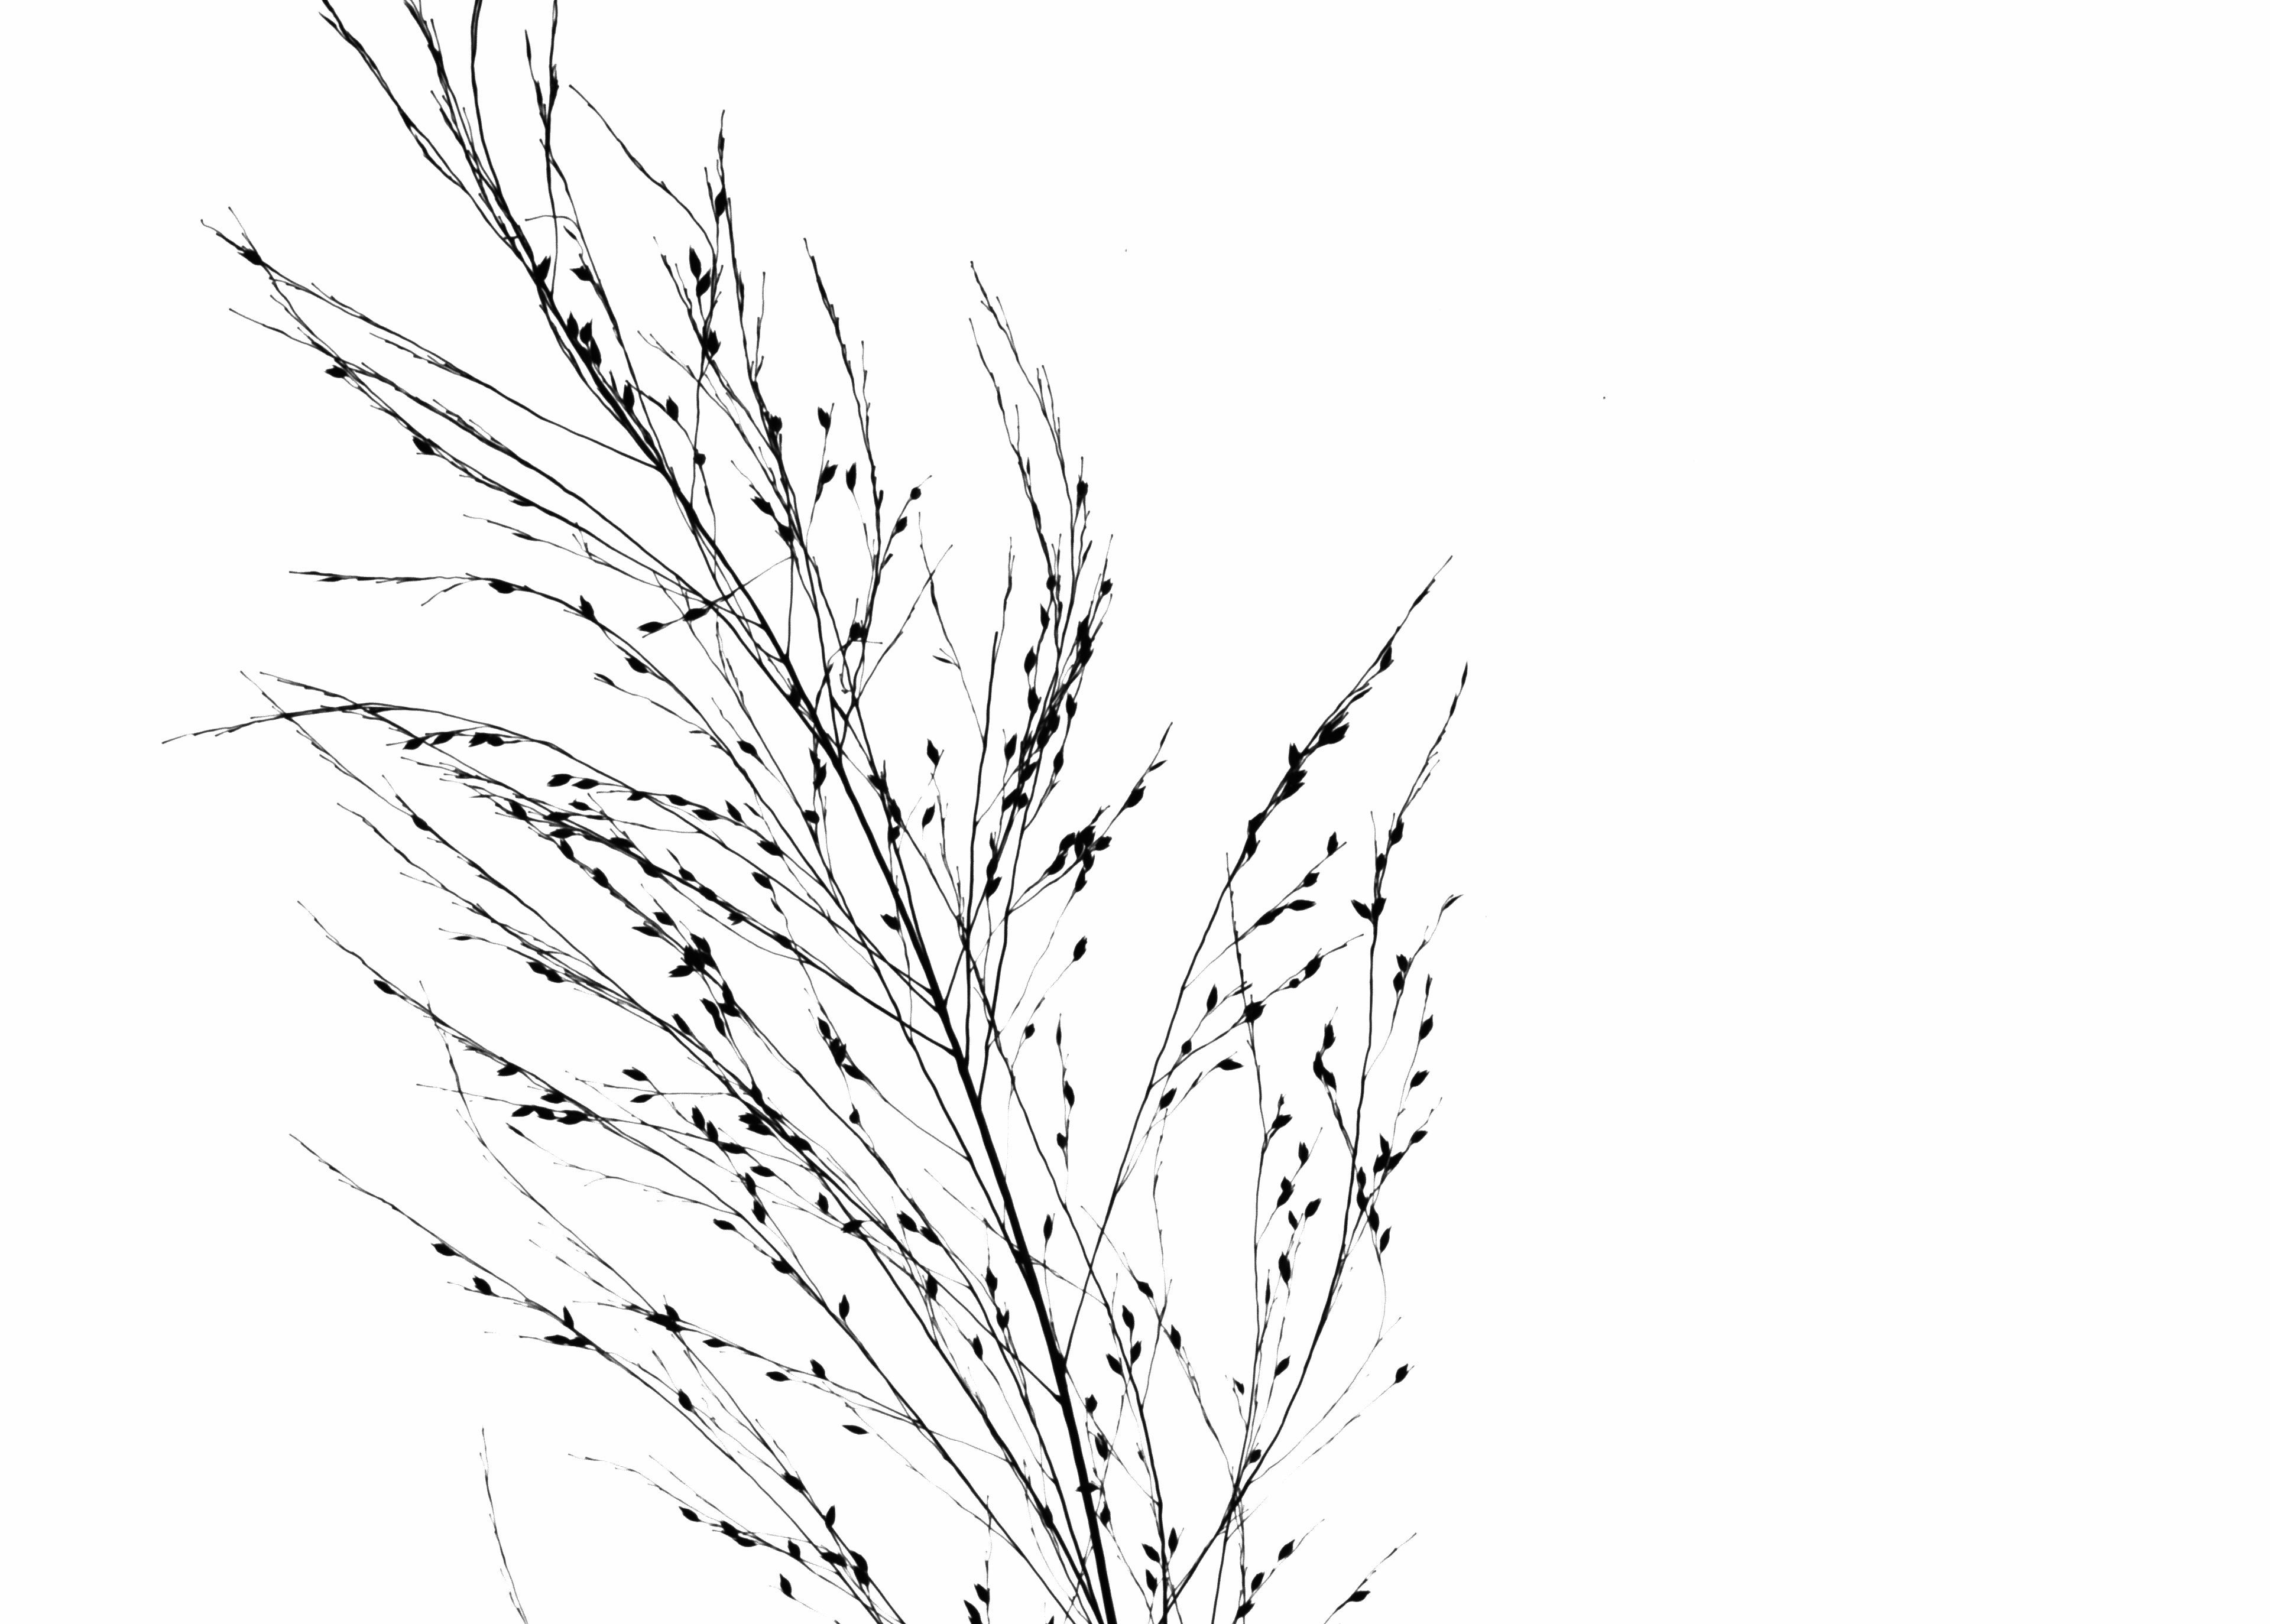seed: (698, 998, 728, 1037), (1250, 902, 1287, 930), (485, 573, 520, 601), (505, 794, 535, 824), (633, 856, 666, 882), (1280, 768, 1308, 798), (408, 432, 438, 460), (1322, 722, 1354, 749), (1203, 979, 1224, 1018), (619, 1062, 654, 1084), (535, 251, 556, 288), (673, 1385, 698, 1417), (1059, 1076, 1081, 1109), (1090, 1427, 1113, 1461), (236, 246, 269, 269), (775, 1568, 798, 1601), (1389, 814, 1410, 849), (1238, 995, 1266, 1021), (624, 654, 652, 680), (788, 1130, 816, 1156), (431, 1237, 457, 1265), (1382, 1149, 1407, 1179), (779, 1469, 809, 1494), (568, 262, 600, 285), (753, 835, 786, 856), (1243, 808, 1270, 835), (689, 932, 716, 958), (1125, 784, 1150, 812), (747, 494, 775, 518), (1368, 896, 1391, 926), (1280, 782, 1310, 805), (920, 1223, 942, 1253), (556, 835, 578, 865), (767, 1255, 797, 1278), (765, 1366, 795, 1388), (1164, 1322, 1183, 1357), (1305, 951, 1326, 982), (921, 736, 942, 768), (369, 977, 401, 998), (1275, 1536, 1299, 1562), (1102, 1350, 1127, 1376), (983, 1262, 1000, 1299), (717, 997, 744, 1021), (812, 759, 830, 796), (865, 772, 891, 796), (686, 241, 703, 278), (960, 1598, 986, 1622), (886, 794, 906, 828), (1277, 1183, 1299, 1211), (1345, 1585, 1373, 1608), (575, 594, 598, 622), (1275, 1253, 1296, 1283), (1118, 1302, 1139, 1332), (607, 831, 637, 852), (920, 800, 941, 830), (1074, 612, 1092, 647), (1321, 1019, 1340, 1051), (1127, 1338, 1146, 1369), (921, 1269, 941, 1301), (983, 849, 1002, 881), (1002, 782, 1022, 814), (735, 1107, 767, 1127), (702, 1332, 733, 1352), (1132, 1278, 1157, 1302), (893, 1209, 918, 1234), (1347, 896, 1370, 923), (1234, 1596, 1257, 1622), (840, 1062, 867, 1084), (466, 726, 492, 749), (670, 1011, 693, 1037), (469, 1272, 496, 1295), (851, 1562, 874, 1589), (849, 1545, 872, 1571), (1069, 933, 1090, 961), (545, 768, 573, 789), (1046, 849, 1067, 877), (684, 603, 712, 624), (974, 1577, 995, 1605), (1285, 895, 1319, 912), (1377, 1225, 1394, 1258), (696, 267, 714, 301), (1050, 1014, 1069, 1044), (663, 392, 682, 422), (431, 728, 461, 747), (746, 1121, 775, 1141), (749, 1162, 779, 1181), (1377, 1130, 1391, 1171), (1139, 1541, 1164, 1564), (751, 868, 775, 891), (744, 800, 767, 824), (879, 910, 904, 933), (735, 736, 760, 759), (410, 810, 434, 833), (1408, 1127, 1435, 1148), (1324, 828, 1342, 859), (1046, 701, 1064, 733), (1213, 1056, 1245, 1074), (1157, 1084, 1178, 1111), (1268, 1111, 1294, 1132), (1271, 1353, 1292, 1380), (545, 824, 580, 840), (591, 670, 617, 691), (1020, 759, 1041, 786), (1080, 636, 1095, 671), (633, 619, 668, 634), (589, 339, 607, 371), (559, 1111, 591, 1128), (703, 1116, 721, 1148), (719, 1139, 751, 1156), (719, 1515, 740, 1541), (1419, 1014, 1438, 1042), (840, 1420, 869, 1439), (816, 1548, 844, 1568), (1243, 828, 1259, 861), (1036, 721, 1051, 754), (540, 808, 573, 824), (1023, 642, 1039, 675), (712, 186, 728, 220), (1379, 643, 1396, 673), (971, 1332, 988, 1362), (619, 381, 637, 411), (689, 1102, 707, 1132), (751, 1197, 768, 1227), (742, 1169, 760, 1199), (1247, 1004, 1268, 1028), (591, 863, 612, 888), (1057, 828, 1078, 852), (564, 308, 578, 344), (784, 1538, 805, 1562), (679, 1504, 703, 1526), (691, 803, 717, 823), (985, 874, 1004, 900), (1016, 731, 1036, 758), (325, 362, 352, 381), (809, 1355, 828, 1381), (631, 924, 663, 940), (1051, 743, 1067, 775), (578, 316, 594, 348), (1322, 1065, 1340, 1093), (1312, 1049, 1326, 1084), (1069, 1482, 1104, 1496), (833, 1039, 848, 1074), (814, 1014, 832, 1042), (626, 789, 654, 807), (1062, 691, 1080, 719), (557, 1302, 575, 1330), (821, 1499, 839, 1527), (1410, 1067, 1431, 1090), (1076, 821, 1097, 844), (1141, 1568, 1160, 1592), (819, 460, 839, 485), (522, 960, 547, 979), (735, 1534, 760, 1554), (566, 798, 596, 814), (573, 777, 603, 793), (631, 1091, 661, 1107), (709, 1214, 738, 1230), (644, 1311, 673, 1327), (1366, 1200, 1380, 1234), (1287, 738, 1301, 772), (844, 459, 858, 492), (1393, 1359, 1410, 1385), (1145, 758, 1171, 775), (1074, 478, 1092, 504), (816, 404, 833, 431), (508, 1102, 535, 1120), (814, 1190, 832, 1216), (1301, 868, 1322, 889), (1243, 1445, 1264, 1466), (1097, 1499, 1113, 1527), (719, 975, 735, 1004), (1025, 685, 1041, 714), (1037, 601, 1053, 629), (839, 1218, 867, 1234), (542, 1332, 570, 1348), (1371, 1151, 1391, 1174), (1303, 1197, 1322, 1220), (777, 522, 797, 545), (1041, 1211, 1055, 1241), (990, 1302, 1004, 1332), (1004, 731, 1018, 761), (651, 905, 677, 921), (786, 682, 802, 708), (403, 736, 429, 752), (1094, 833, 1115, 852), (545, 967, 566, 986), (1178, 1035, 1196, 1058), (666, 1301, 684, 1323), (568, 1336, 596, 1350), (1394, 951, 1410, 975), (1076, 863, 1088, 895), (1248, 1568, 1264, 1592), (1083, 1390, 1099, 1415), (723, 796, 738, 821), (1391, 970, 1405, 997), (1051, 1130, 1069, 1151), (1280, 1171, 1294, 1197), (709, 327, 723, 353), (452, 932, 478, 946), (494, 1063, 520, 1077), (1168, 1522, 1180, 1552), (665, 961, 695, 974), (839, 1290, 851, 1320), (1296, 1139, 1312, 1162), (665, 791, 688, 807), (893, 513, 909, 536), (693, 446, 709, 469), (535, 1106, 557, 1121), (313, 573, 346, 584), (1354, 1162, 1366, 1190), (1284, 1206, 1298, 1230), (849, 615, 863, 640), (768, 896, 786, 916), (802, 807, 821, 824), (1285, 974, 1301, 995), (1262, 1274, 1273, 1306), (1041, 1499, 1051, 1531), (807, 747, 823, 768), (770, 411, 786, 432), (888, 824, 900, 851), (1018, 789, 1030, 816), (1422, 972, 1437, 995), (1023, 1019, 1037, 1042), (1231, 1374, 1245, 1397), (540, 1091, 570, 1102), (1099, 576, 1115, 596), (909, 483, 925, 503), (1375, 851, 1387, 875), (986, 830, 999, 854), (1002, 1308, 1013, 1336), (830, 1030, 840, 1058), (487, 733, 508, 747), (698, 882, 717, 896), (679, 868, 698, 882), (1044, 571, 1057, 592), (665, 1323, 689, 1334), (848, 1109, 863, 1125), (1085, 844, 1094, 872), (1354, 1190, 1364, 1213), (1278, 1088, 1287, 1113)
